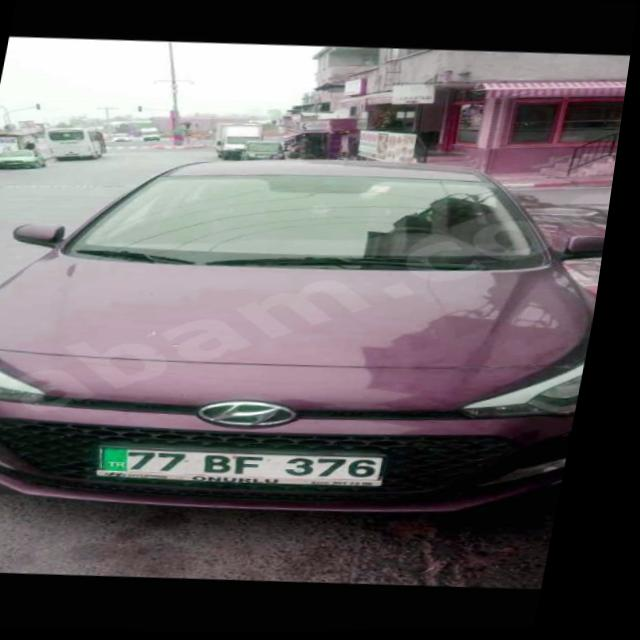license_plate: (107, 442, 401, 488)
